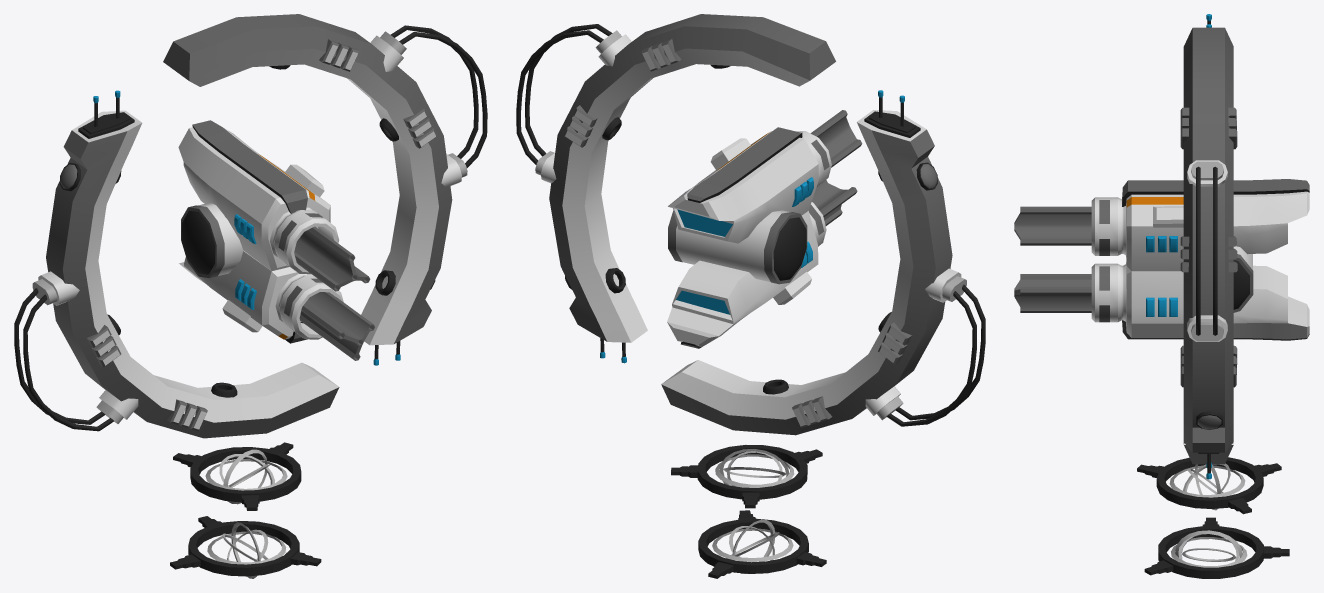
The model's file is tower_gatling_upgrade2_asset.fbx.
3 views of the same model, side by side, from view 1: azimuth 30°, elevation 25°; view 2: azimuth 150°, elevation 25°; view 3: azimuth 270°, elevation 25° (orthographic). The views are drawn at different scales.
Parts seen in each view (by area): view 1: gatling_body, gatling_gun; view 2: gatling_body, gatling_gun; view 3: gatling_body, gatling_gun.
Part boxes in pixels (<box>): gatling_body: <box>14,14,487,578</box>; gatling_gun: <box>178,120,374,360</box>; gatling_body: <box>516,14,985,578</box>; gatling_gun: <box>667,110,862,348</box>; gatling_body: <box>1137,14,1289,578</box>; gatling_gun: <box>1014,179,1309,340</box>.
Bounding box in the file's own units: 251 × 285 × 144.
